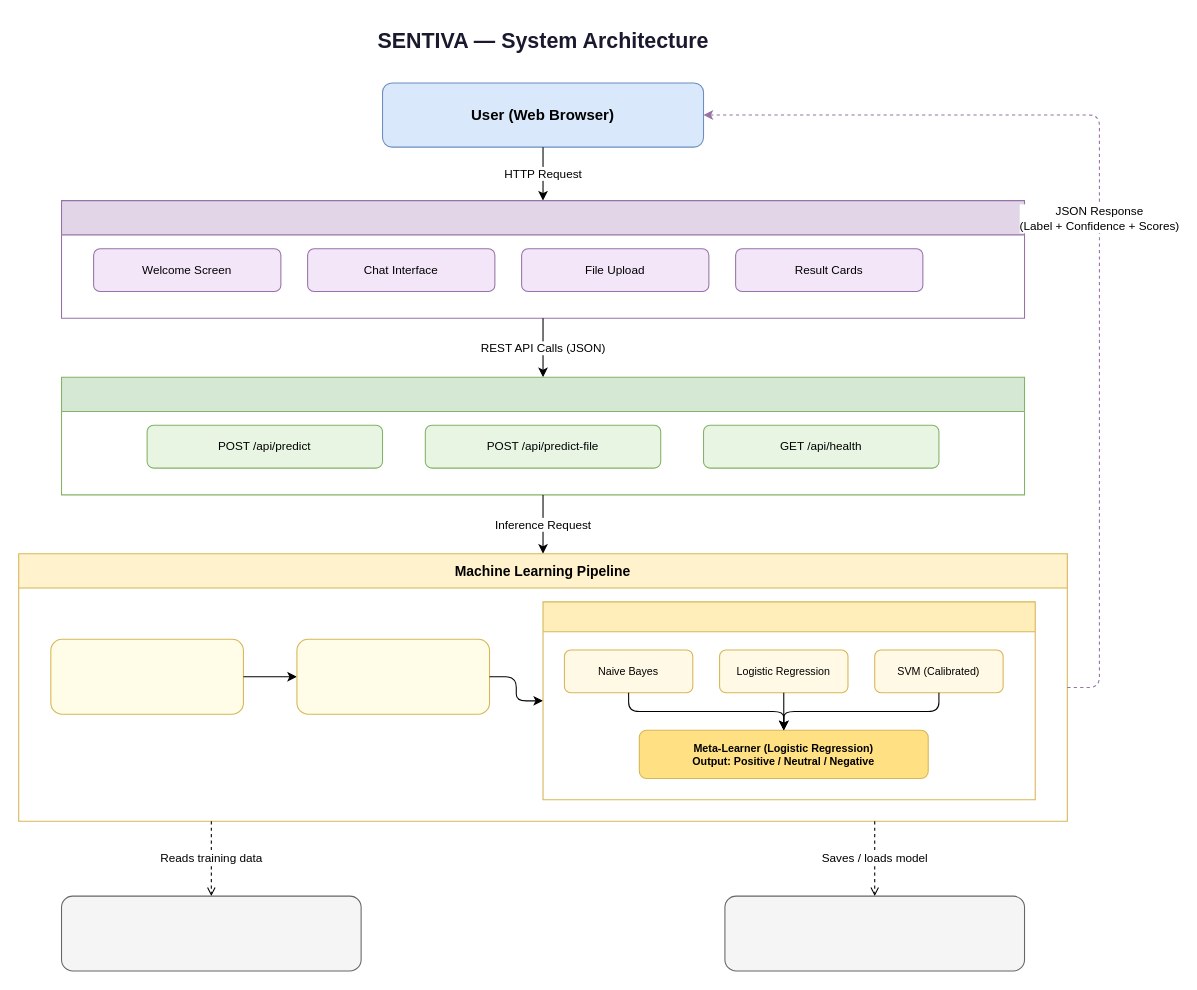
Image size: 1197x990. Some labels were removed from this diagram. The box of each missing label's shape, as (x1, y1, x2, y2) in pixels:
Backend API — FastAPI (Python): (60, 376, 1025, 495)
Frontend — index.html (HTML / CSS / JavaScript): (60, 200, 1025, 318)
Model Cache sentiva_model.pkl (joblib): (724, 895, 1025, 971)
Stacking Ensemble: (542, 601, 1035, 800)
Text Preprocessor (lowercase, URLs, mentions, Ghanaian normalization): (50, 638, 243, 714)
TF-IDF Vectorizer (5,000 features unigrams + bigrams): (296, 638, 490, 714)
Tweet Dataset 2,468 labeled tweets (CSV): (60, 895, 361, 971)
